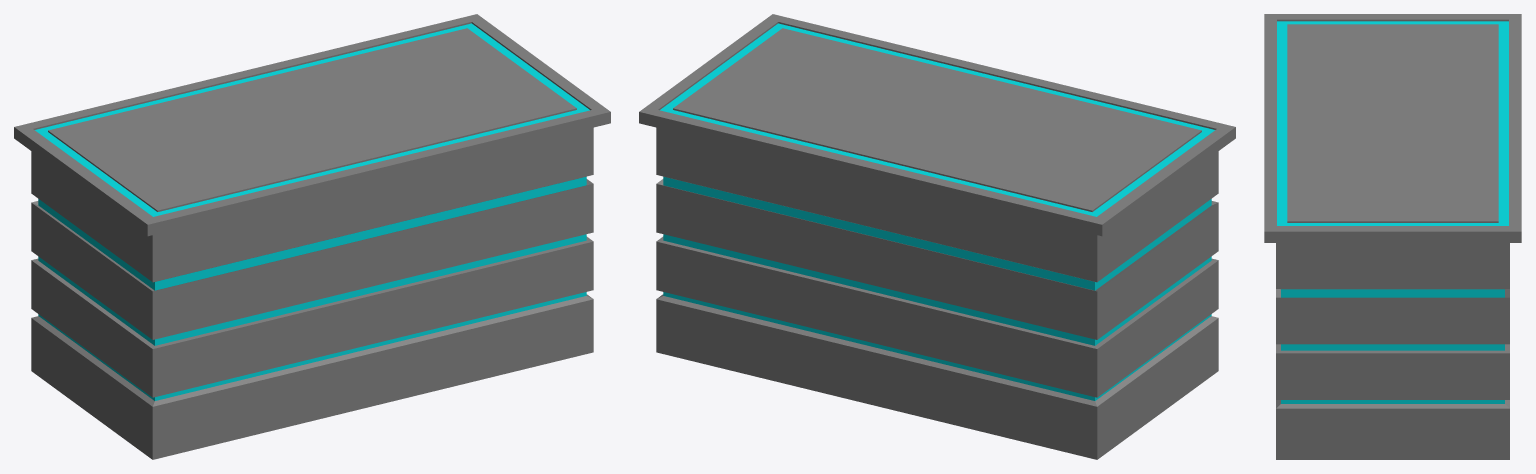
The model's file is Box_Double.fbx.
3 views of the same model, side by side, from view 1: azimuth 30°, elevation 25°; view 2: azimuth 150°, elevation 25°; view 3: azimuth 270°, elevation 25° (orthographic). The views are drawn at different scales.
Visible parts, largest first — view 1: Box_Double; view 2: Box_Double; view 3: Box_Double.
Part boxes in pixels (box(x1,y1,x2,y2)): Box_Double: box(14, 14, 610, 459); Box_Double: box(639, 14, 1235, 459); Box_Double: box(1264, 14, 1521, 459).
Bounding box in the file's own units: 400 × 200 × 200.
